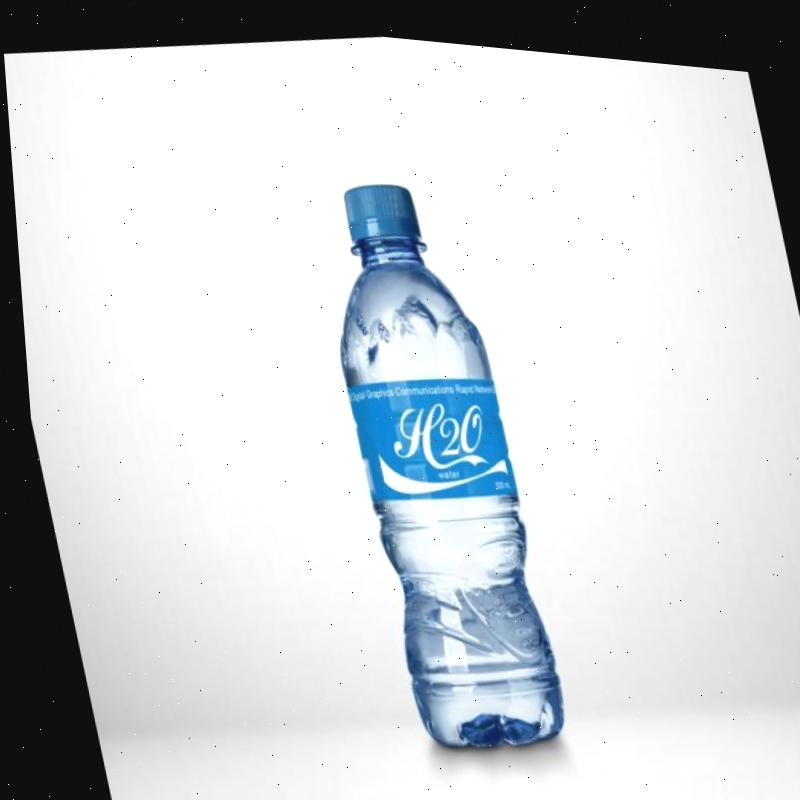botella: (293, 153, 573, 761)
